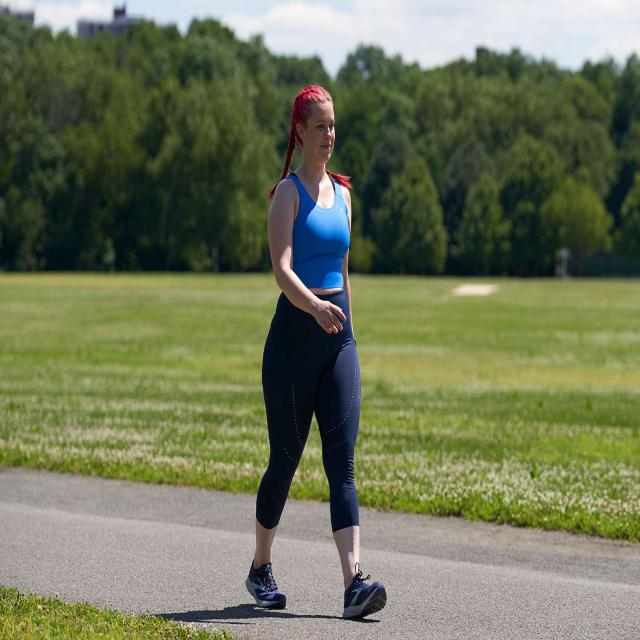Person: (245, 86, 386, 619)
